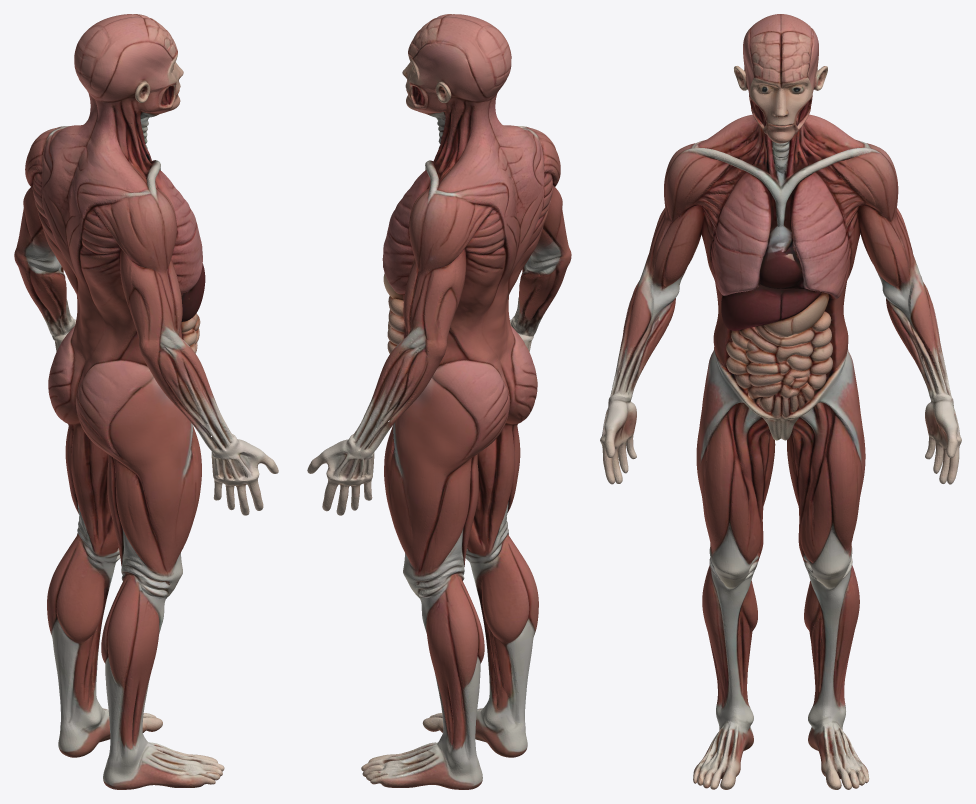
The model's file is human_model.glb.
3 views of the same model, side by side, from view 1: azimuth 30°, elevation 25°; view 2: azimuth 150°, elevation 25°; view 3: azimuth 270°, elevation 25° (orthographic).
Visible parts, largest first — view 1: tripo_node_11a3c220-93e0-4f1c-936f-de1ef9face96; view 2: tripo_node_11a3c220-93e0-4f1c-936f-de1ef9face96; view 3: tripo_node_11a3c220-93e0-4f1c-936f-de1ef9face96.
Boxes of the visible parts, x1,y1,x2,y2 form: tripo_node_11a3c220-93e0-4f1c-936f-de1ef9face96: (14,14,278,789); tripo_node_11a3c220-93e0-4f1c-936f-de1ef9face96: (307,14,571,789); tripo_node_11a3c220-93e0-4f1c-936f-de1ef9face96: (600,14,961,789).
Size of the model in its own units: 0.1909 by 1 by 0.4424.
1 material, 1 textured.
